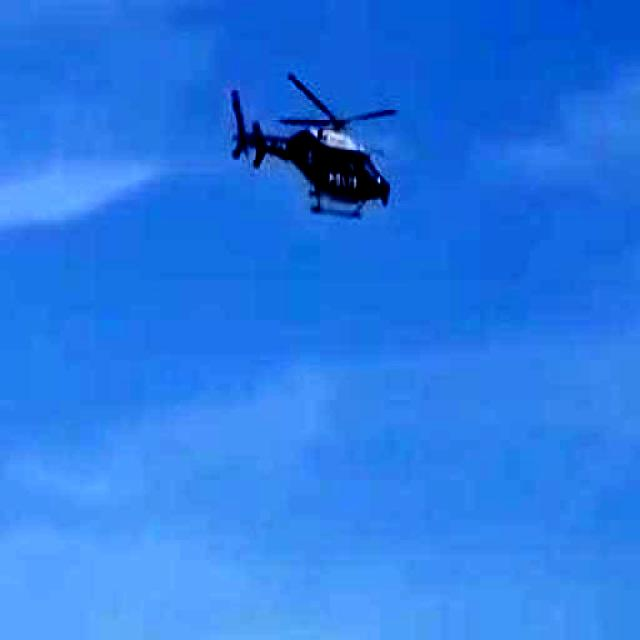drone: (204, 21, 422, 292)
